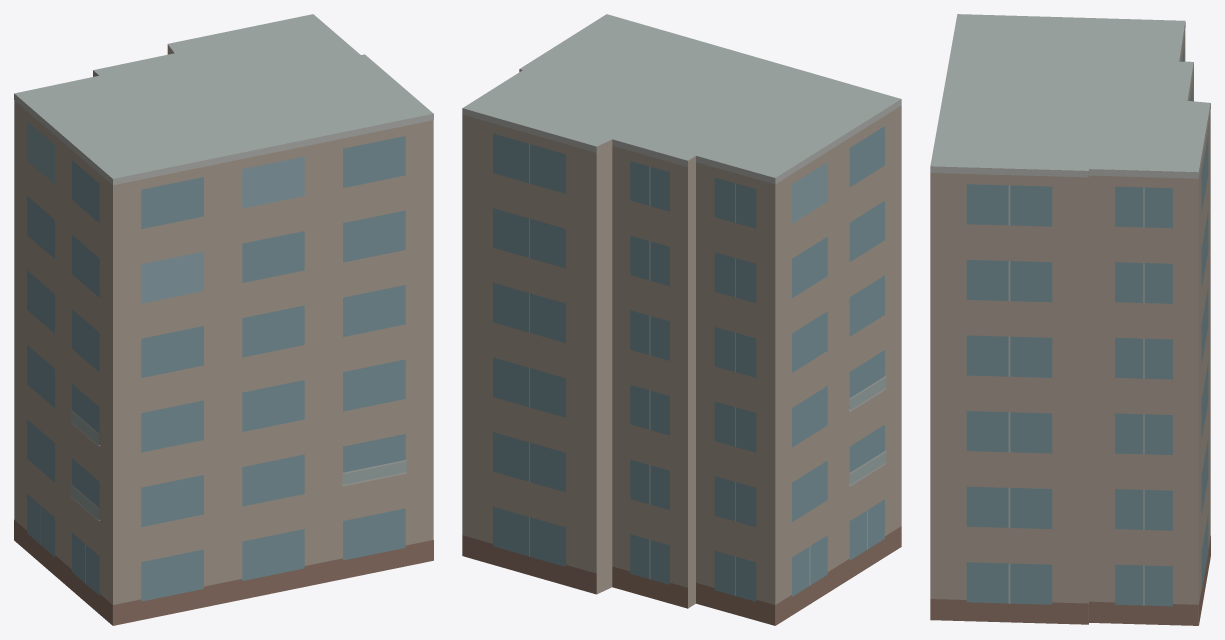
Rendered from survey-upis-32575747.glb.
The picture shows the model from 3 angles, left to right: view 1: azimuth 30°, elevation 25°; view 2: azimuth 150°, elevation 25°; view 3: azimuth 270°, elevation 25°; orthographic projection.
Visible parts, largest first — view 1: survey-upis-32575747.tmp; view 2: survey-upis-32575747.tmp; view 3: survey-upis-32575747.tmp.
Part boxes in pixels (<box>): survey-upis-32575747.tmp: <box>14,14,433,625</box>; survey-upis-32575747.tmp: <box>462,14,901,625</box>; survey-upis-32575747.tmp: <box>930,14,1210,625</box>.
Size of the model in its own units: 12.79 by 17.1 by 9.59.
